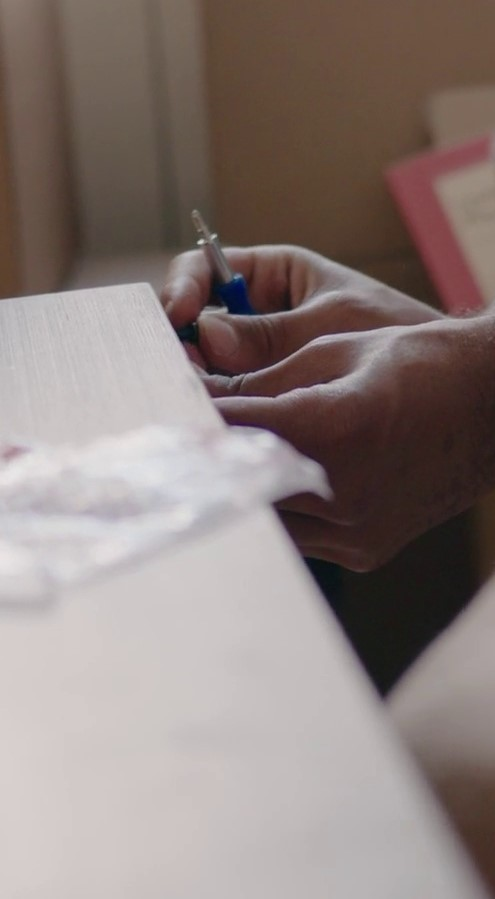screwdriver: (183, 202, 267, 339)
